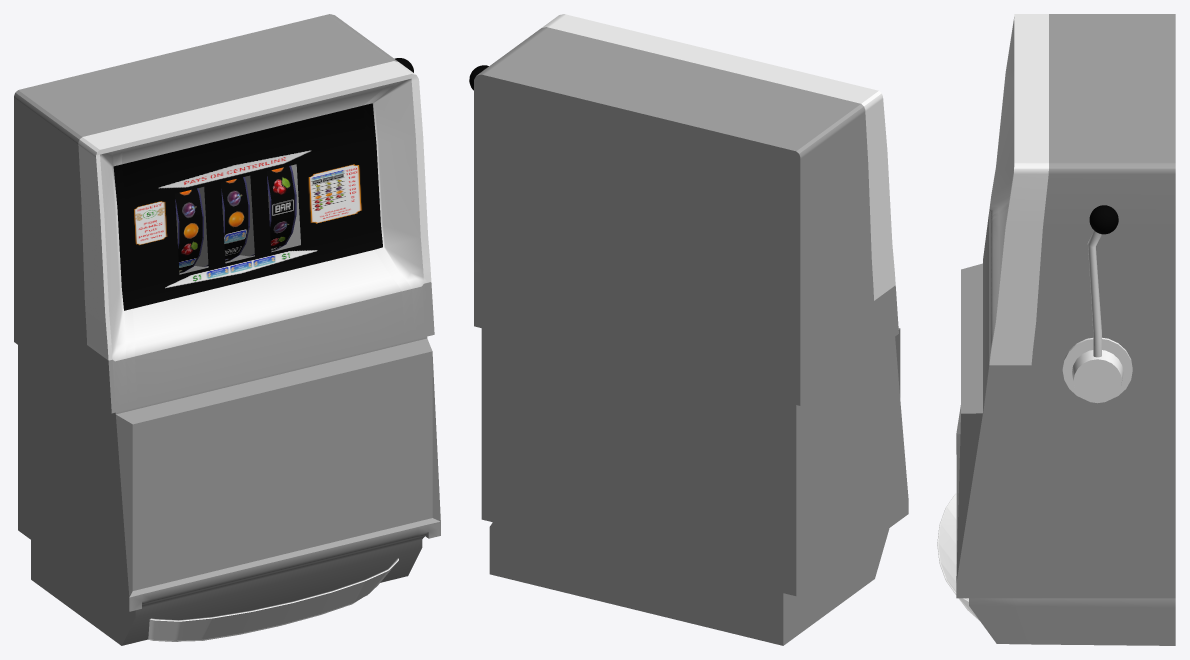
The model's file is Export_ONE.fbx.
The picture shows the model from 3 angles, left to right: view 1: azimuth 30°, elevation 25°; view 2: azimuth 150°, elevation 25°; view 3: azimuth 270°, elevation 25°; orthographic projection. The views are drawn at different scales.
Parts seen in each view (by area): view 1: Machine, CoinTray, Right_Reel, Center_Reel, Left_Reel; view 2: Machine; view 3: Machine, Handle_Collar, CoinTray, Metal_Handle_Plate, Bar_Handle, Ball_Grip.
Part boxes in pixels (x1,y1,x2,y2): Machine: (14,14,440,645); CoinTray: (148,558,398,641); Right_Reel: (240,165,296,256); Center_Reel: (194,177,249,266); Left_Reel: (175,188,203,273); Machine: (474,14,908,645); Machine: (956,14,1175,645); Handle_Collar: (1072,350,1123,403); CoinTray: (937,493,979,620); Metal_Handle_Plate: (1062,337,1132,398); Bar_Handle: (1087,230,1101,357); Ball_Grip: (1089,205,1118,234).
Size of the model in its own units: 18.64 by 10.78 by 24.3.
8 materials, 4 textured.
